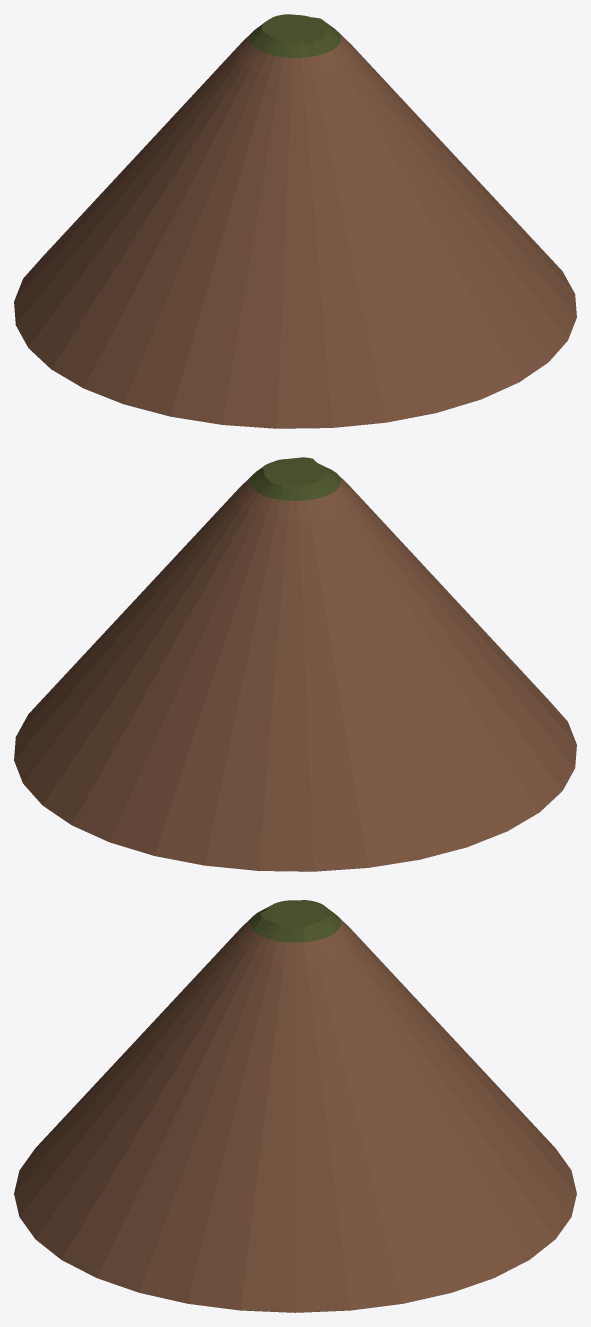
File: TerrainCube (1).fbx
The picture shows the model from 3 angles, top to bottom: view 1: azimuth 30°, elevation 25°; view 2: azimuth 150°, elevation 25°; view 3: azimuth 270°, elevation 25°; orthographic projection.
Parts seen in each view (by area): view 1: Cylinder, Cylinder.003, Cylinder.002; view 2: Cylinder, Cylinder.003, Cylinder.002; view 3: Cylinder, Cylinder.003, Cylinder.002.
Part boxes in pixels (<box>): Cylinder: <box>14,31,576,428</box>; Cylinder.003: <box>259,14,330,44</box>; Cylinder.002: <box>250,23,340,57</box>; Cylinder: <box>14,475,576,871</box>; Cylinder.003: <box>260,457,329,488</box>; Cylinder.002: <box>250,465,340,500</box>; Cylinder: <box>14,916,576,1312</box>; Cylinder.003: <box>258,900,332,930</box>; Cylinder.002: <box>250,905,340,942</box>.
Size of the model in its own units: 10077 by 5545 by 10077.
